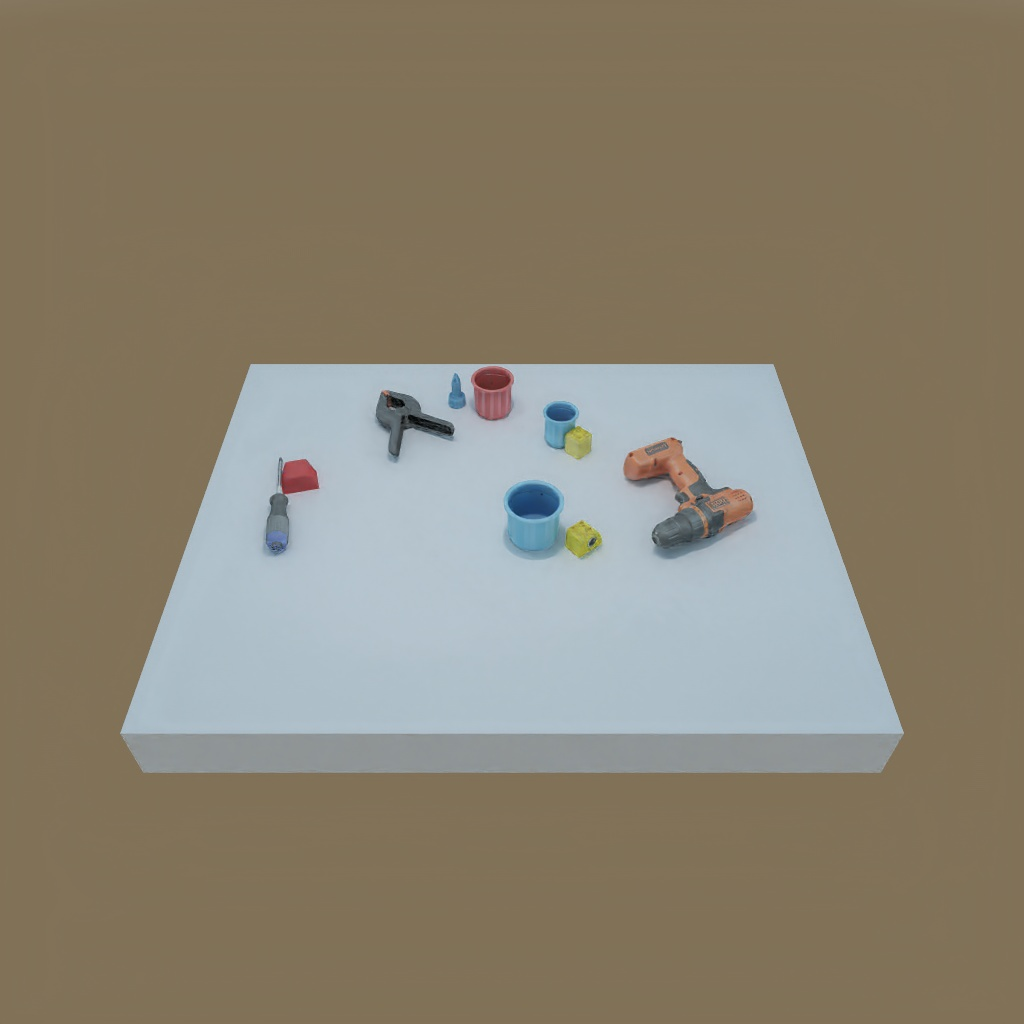power_drill: (623, 441, 755, 544)
